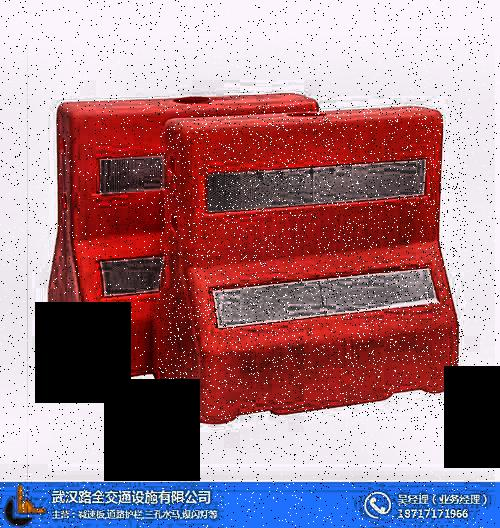bench: (159, 103, 467, 422)
